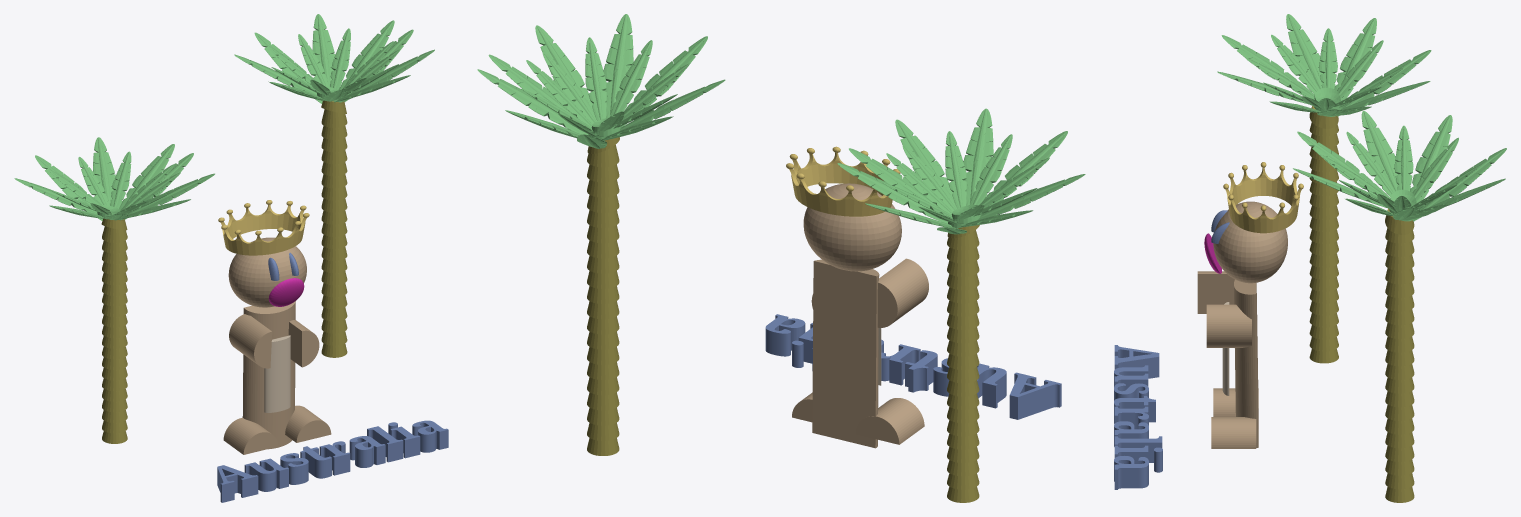
File: Australia.glb
3 renders of one model, left to right at view 1: azimuth 30°, elevation 25°; view 2: azimuth 150°, elevation 25°; view 3: azimuth 270°, elevation 25°, orthographic. The views are drawn at different scales.
Parts seen in each view (by area): view 1: Mesh_Mesh_head_geo.001_lambert2SG.001; view 2: Mesh_Mesh_head_geo.001_lambert2SG.001; view 3: Mesh_Mesh_head_geo.001_lambert2SG.001.
Boxes of the visible parts, left/top/right/bottom form: Mesh_Mesh_head_geo.001_lambert2SG.001: left=14, top=14, right=448, bottom=502; Mesh_Mesh_head_geo.001_lambert2SG.001: left=477, top=14, right=1085, bottom=502; Mesh_Mesh_head_geo.001_lambert2SG.001: left=1114, top=14, right=1506, bottom=502.
Size of the model in its own units: 0.242 by 0.174 by 0.1738.
